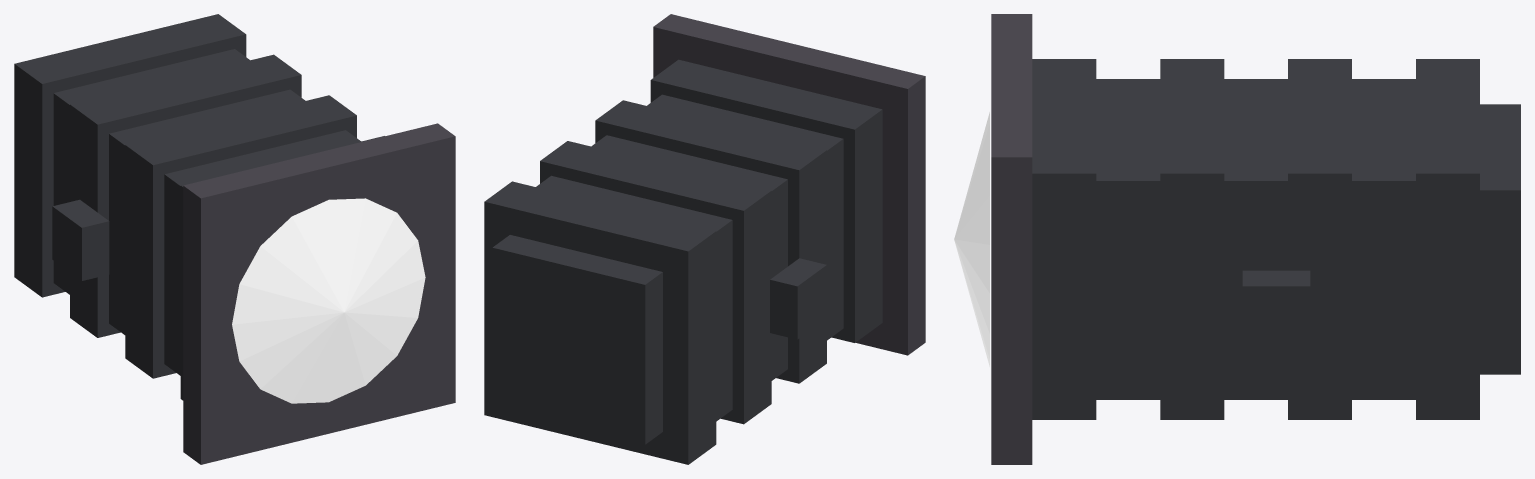
File: spot_head.glb
3 views of the same model, side by side, from view 1: azimuth 30°, elevation 25°; view 2: azimuth 150°, elevation 25°; view 3: azimuth 270°, elevation 25° (orthographic). The views are drawn at different scales.
Visible parts, largest first — view 1: spot_head; view 2: spot_head; view 3: spot_head.
Boxes of the visible parts, box(x1,y1,x2,y2) form: spot_head: box(14, 14, 455, 464); spot_head: box(484, 14, 925, 464); spot_head: box(954, 14, 1520, 464).
Bounding box in the file's own units: 0.54 × 0.5 × 0.835.
Materials: 3 (1 with a texture image).
